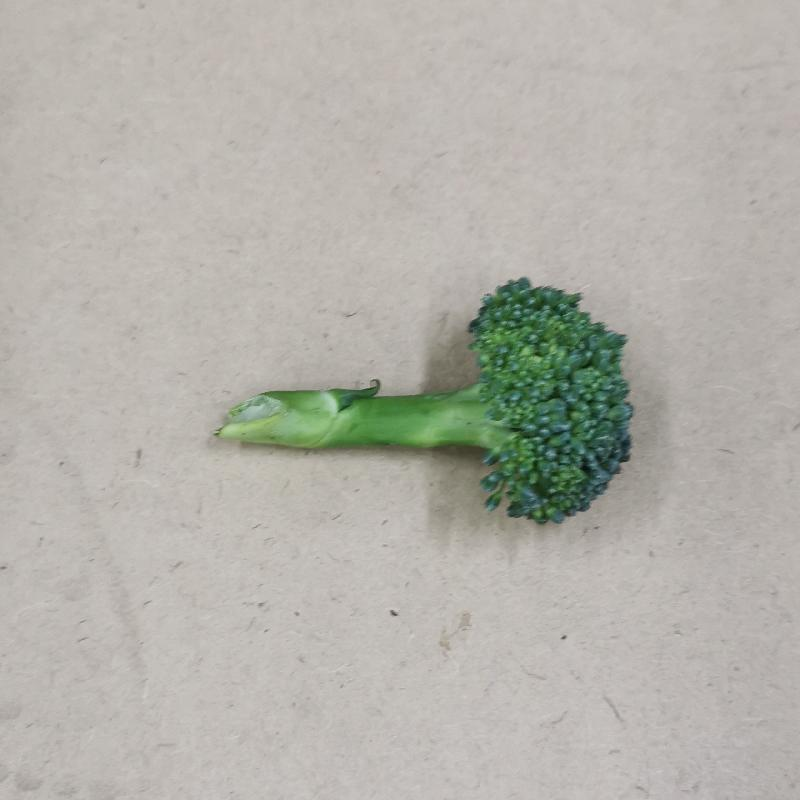broccoli: (219, 273, 636, 530)
